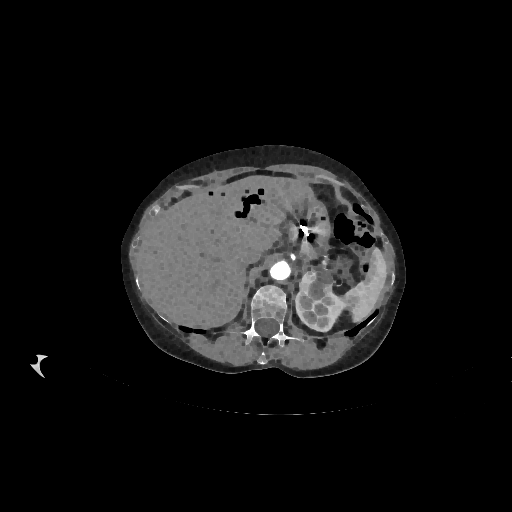Lesion: (300, 269, 336, 306)
